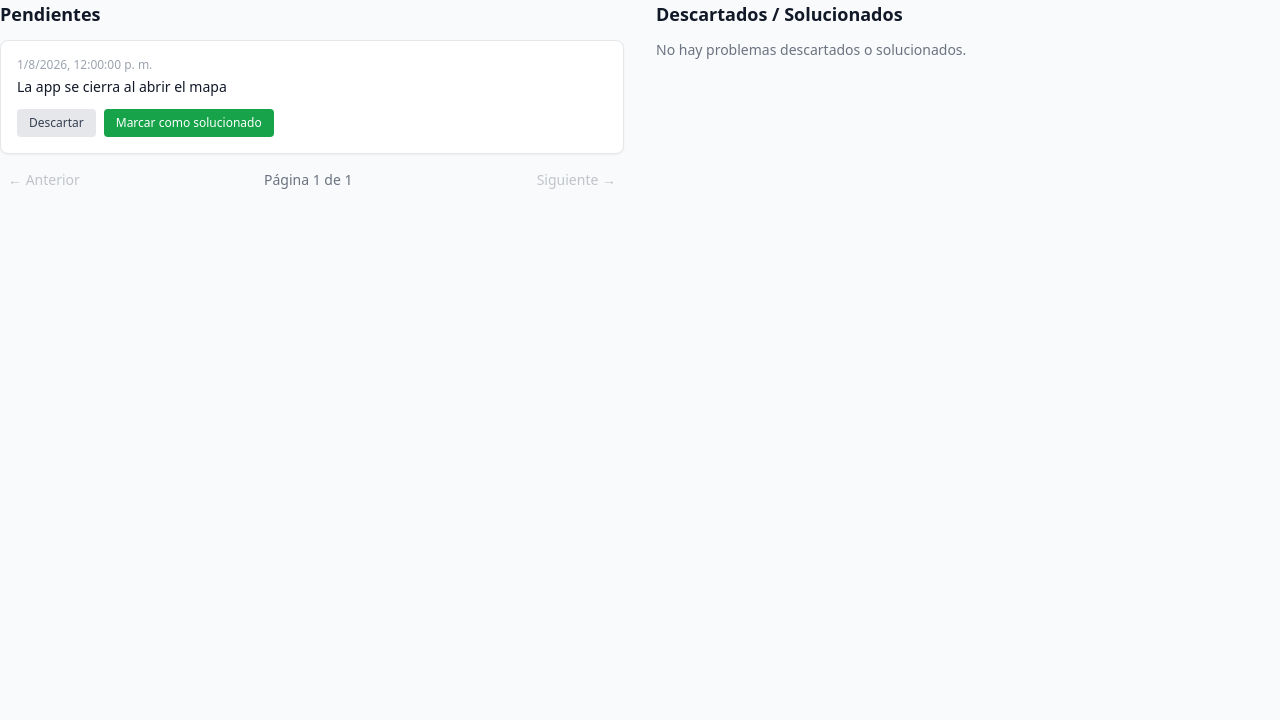
it: ProblemasReportadosPage › el botón 'Confirmar' del modal está deshabilitado sin justificación al descartar
This screenshot has width=1280, height=720.
Click the button "Descartar". click: (56, 123)
box: [17,109,96,137]
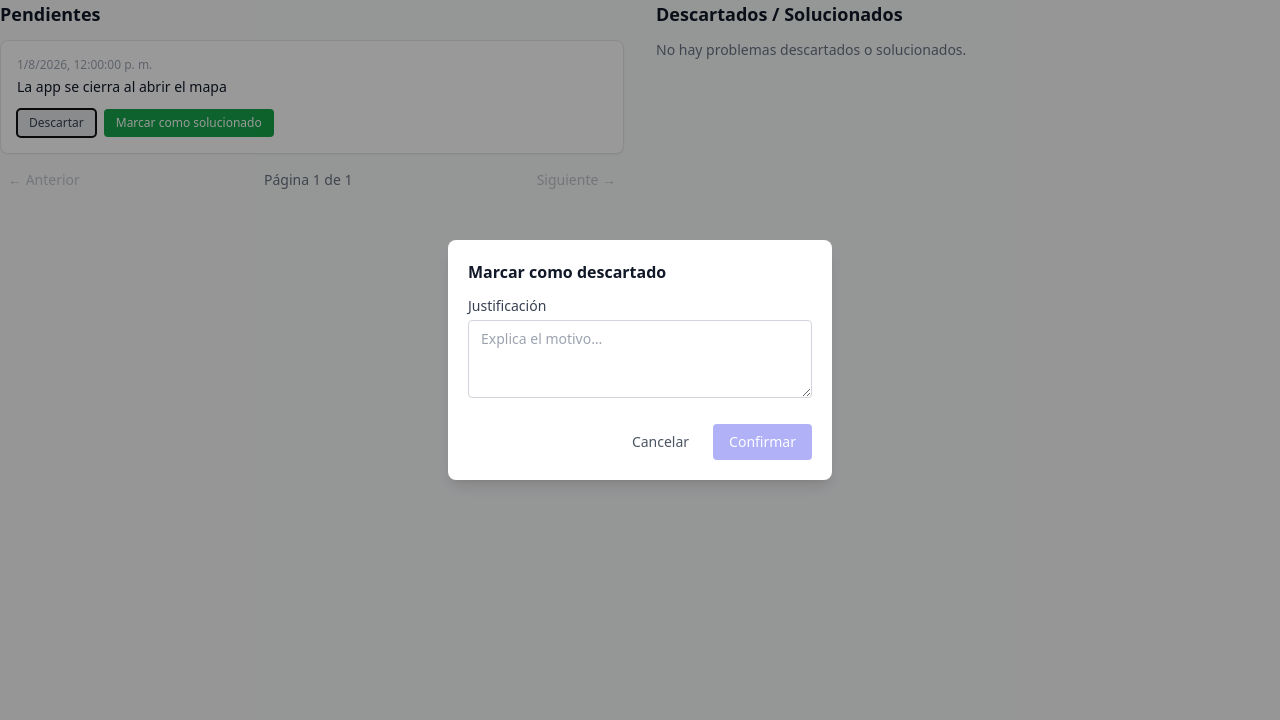
Now the button "Confirmar" is disabled, box [713,424,812,460]
Type "Duplicado" into the text box with placeholder "Explica el motivo…". click: (640, 359)
box: [468,320,812,398]
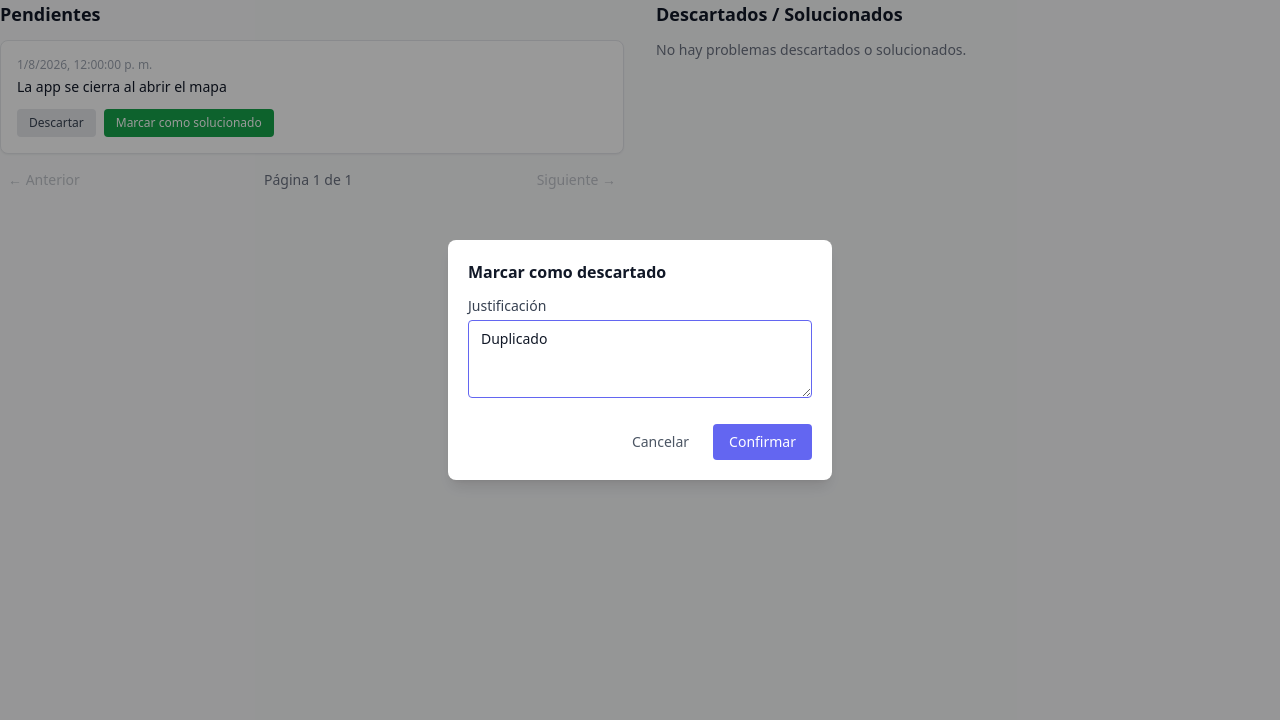
Now the button "Confirmar" is enabled, box [713,424,812,460]
